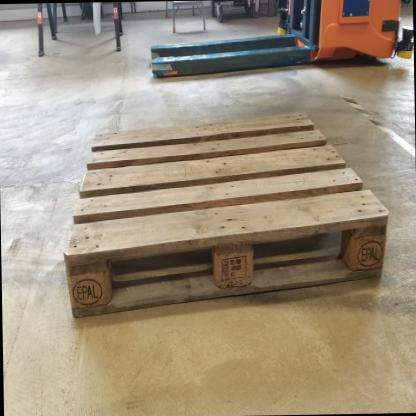BoxFace: (56, 106, 393, 327)
